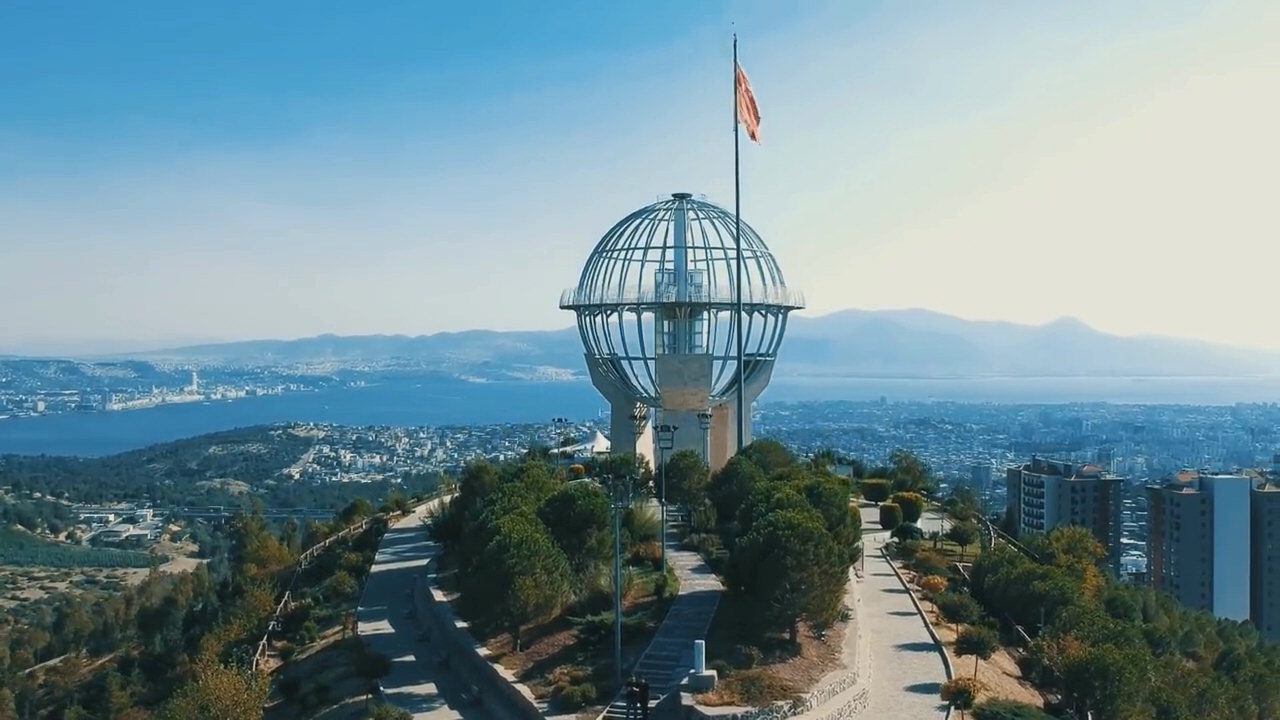insan: (638, 670, 655, 720), (625, 674, 643, 720)
